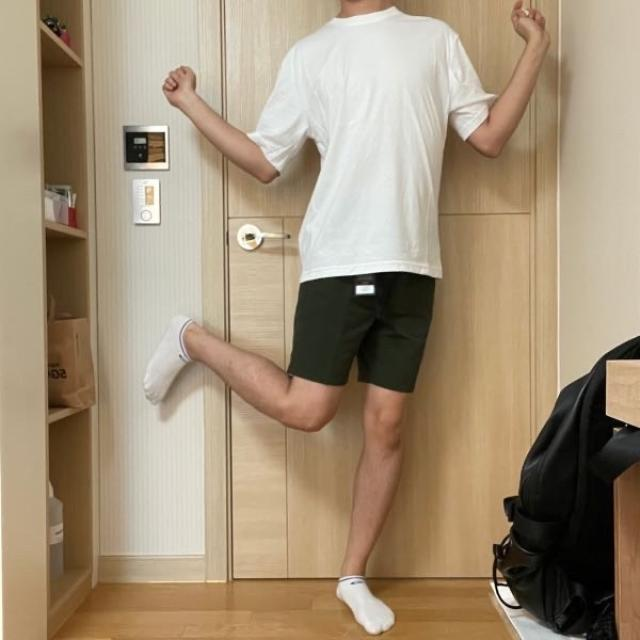shortpants: (282, 268, 434, 397)
shortsleeve: (250, 2, 492, 284)
